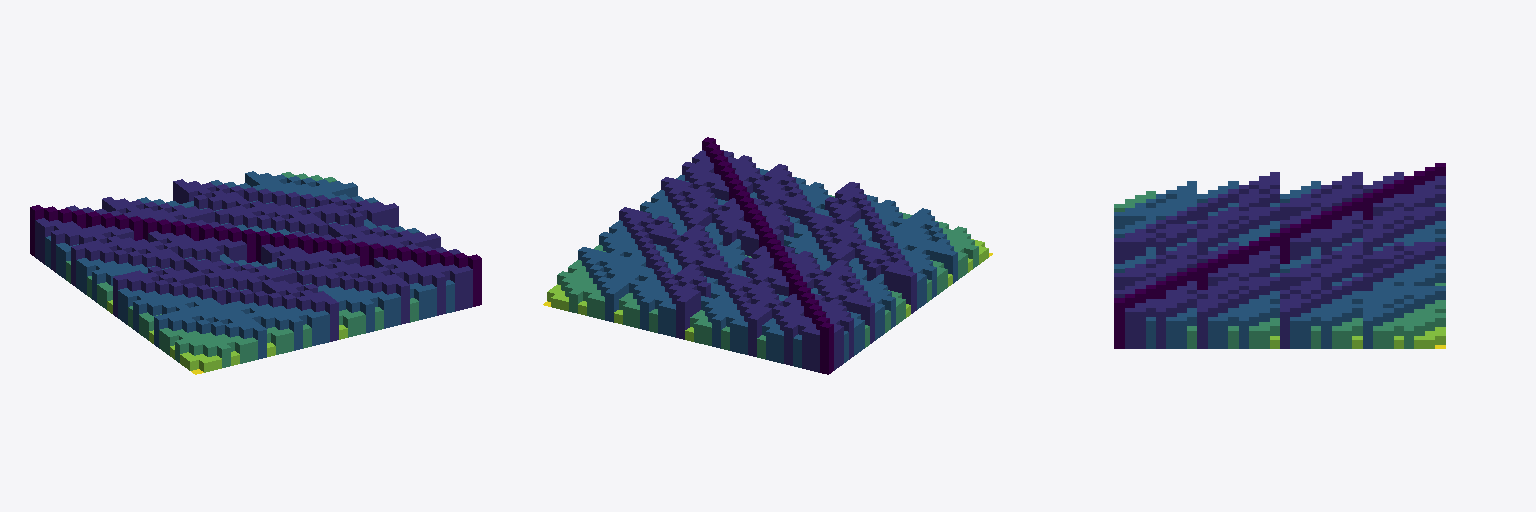
The picture shows the model from 3 angles: view 1: azimuth 30°, elevation 25°; view 2: azimuth 150°, elevation 25°; view 3: azimuth 270°, elevation 25°; orthographic projection.
Visible parts, largest first — view 1: none; view 2: Object(1,1)[length_5]; view 3: Object(32,32)[length_5].
Part boxes in pixels (left/top/right/bottom): Object(1,1)[length_5]: left=820, top=322, right=833, bottom=374; Object(32,32)[length_5]: left=1114, top=298, right=1124, bottom=348.
Bounding box in the file's own units: 32 × 5 × 32.